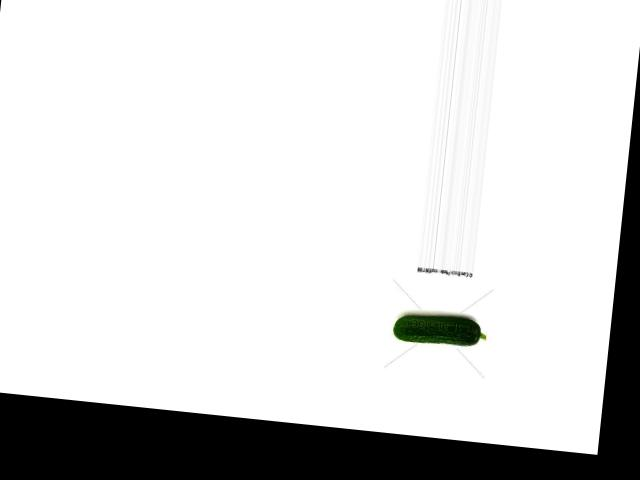cucumber: (391, 310, 488, 349)
